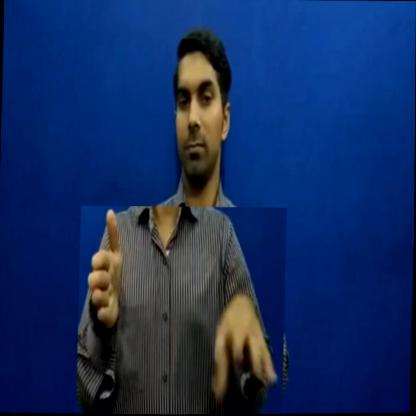Expensive: (76, 204, 286, 416)
